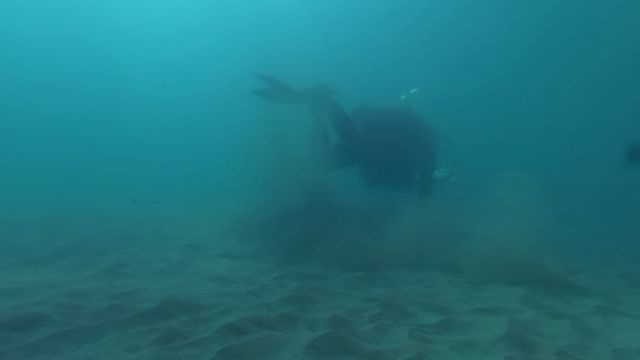Diver: (247, 65, 453, 207)
